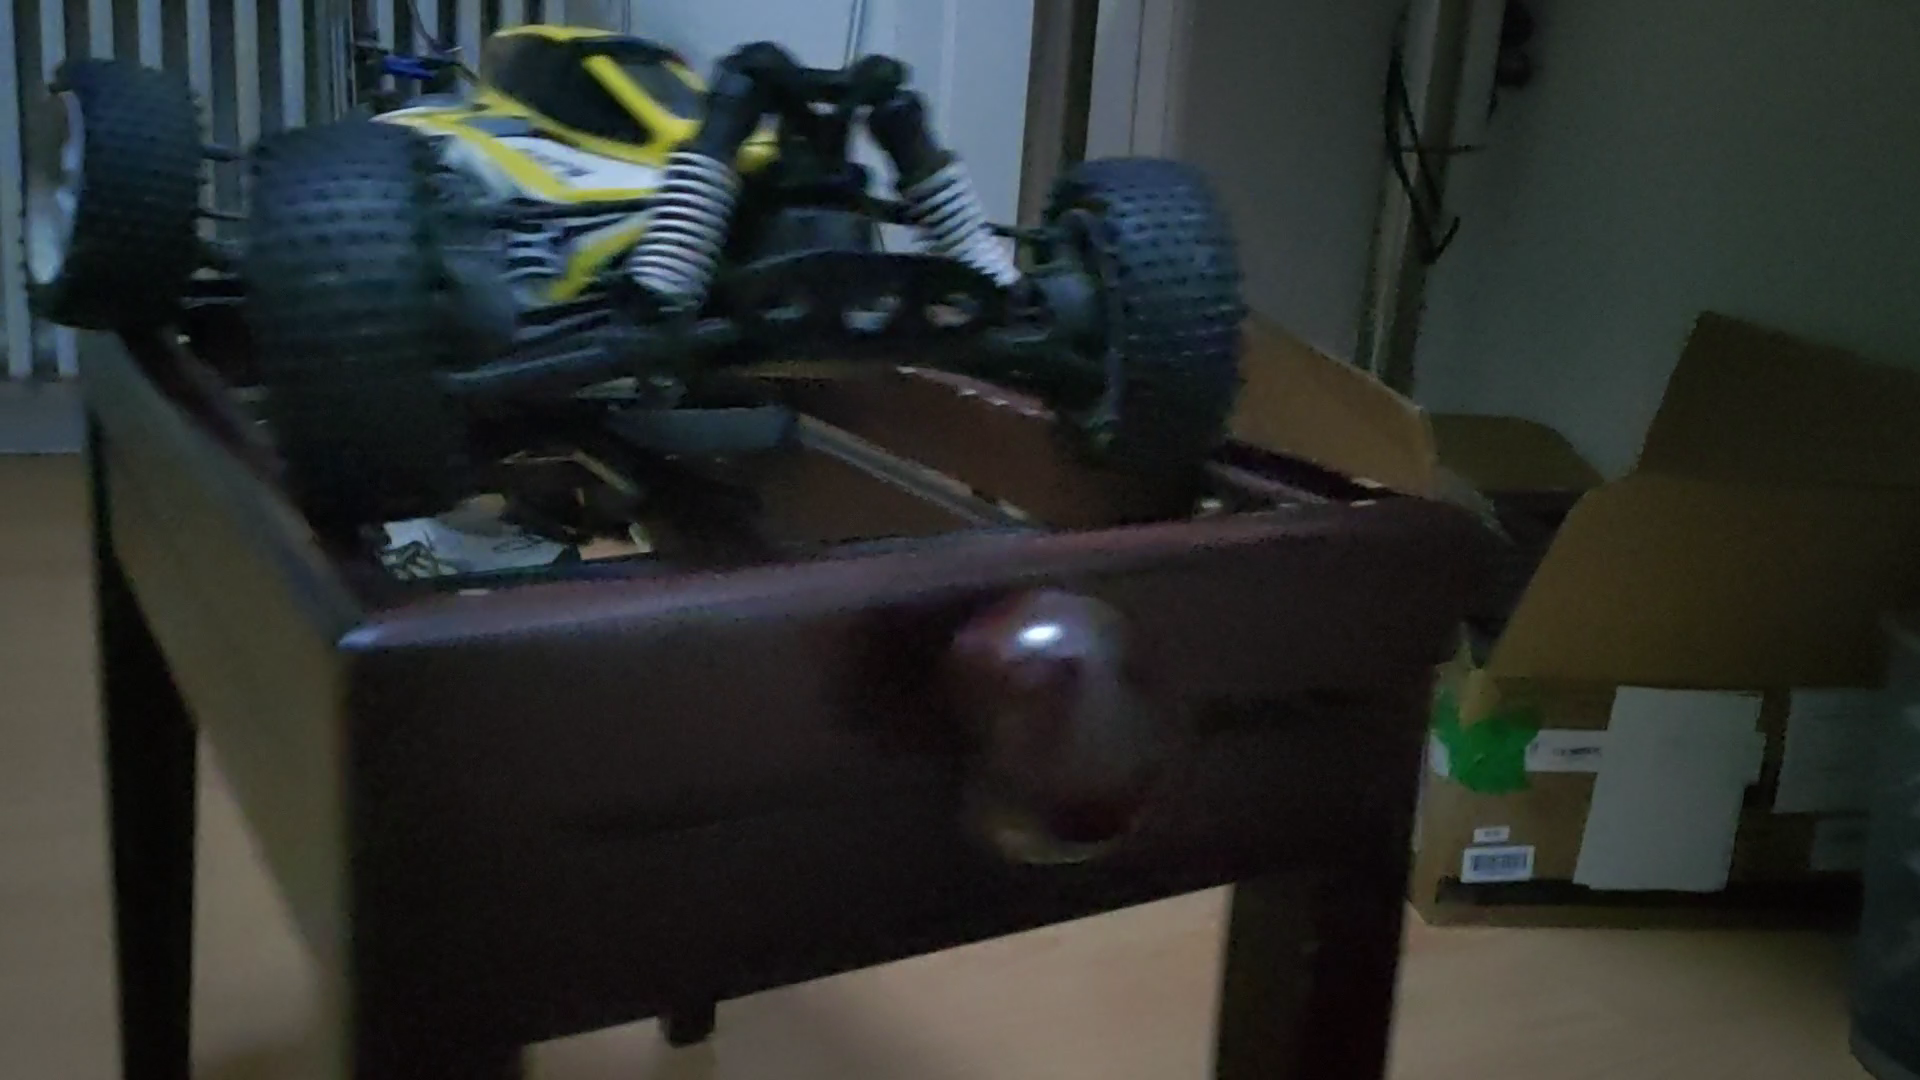buggy: (18, 25, 1244, 509)
